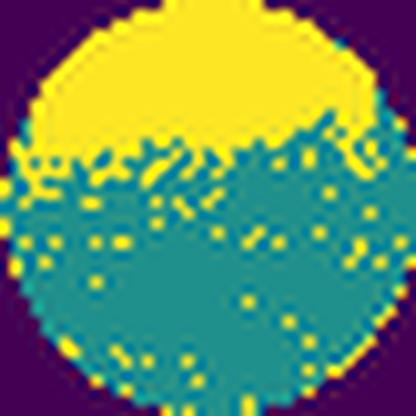Edge-Loc: (5, 0, 391, 176)
